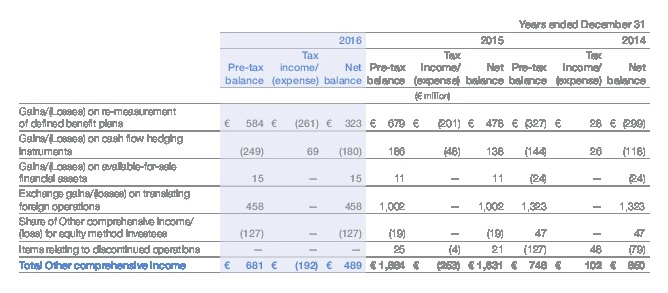table: (0, 0, 668, 293)
